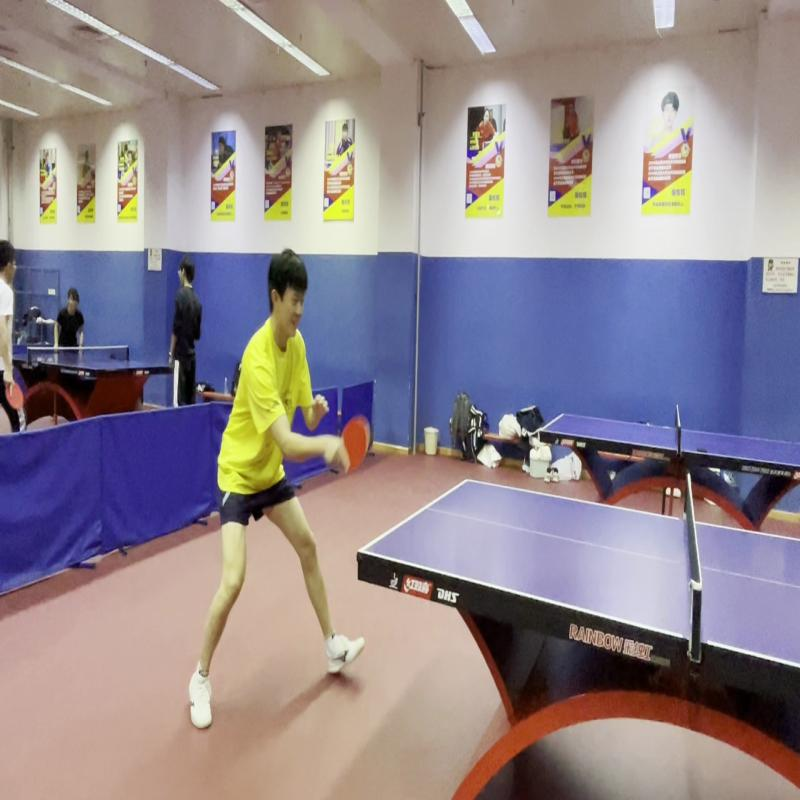bats: (337, 412, 377, 478)
